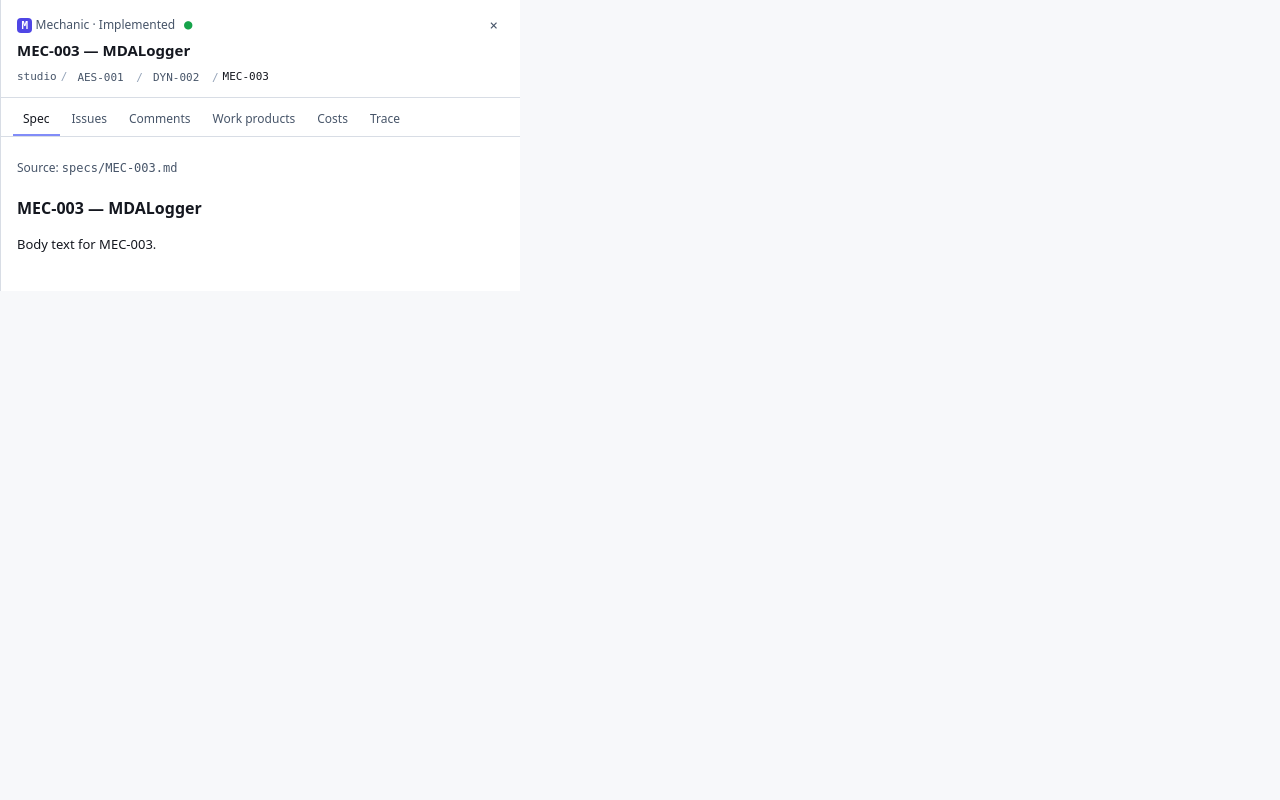
Scenario: NodeDrawer › shows the multi-parent 'Also serves' list on the Trace tab for MEC-003
Click the tab "Trace" at (385, 120), box x1=360 y1=104 x2=410 y2=136
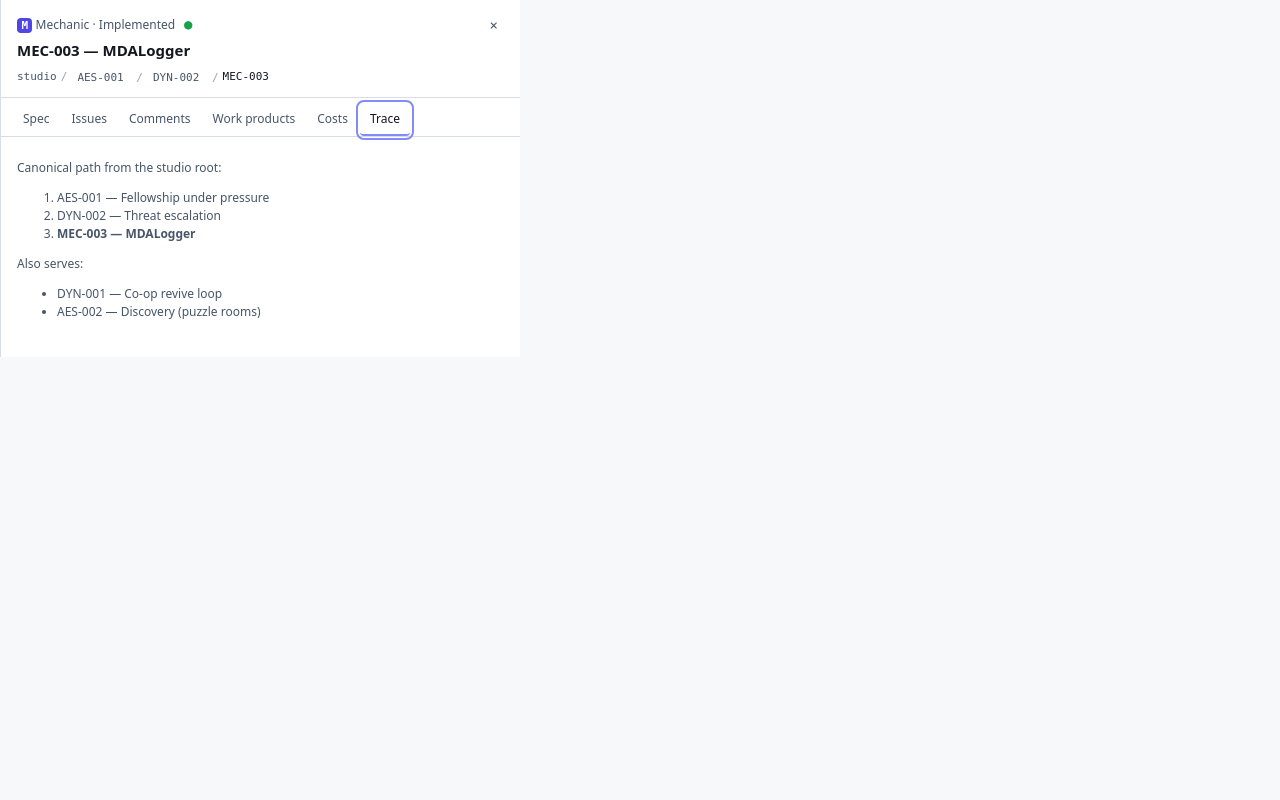
Check: the text "Also serves:" is shown, box x1=17 y1=255 x2=83 y2=272
Check: the list item "DYN-001 — Co-op revive loop" is shown, box x1=57 y1=285 x2=222 y2=302
